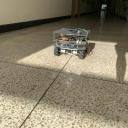cart: (53, 27, 91, 60)
